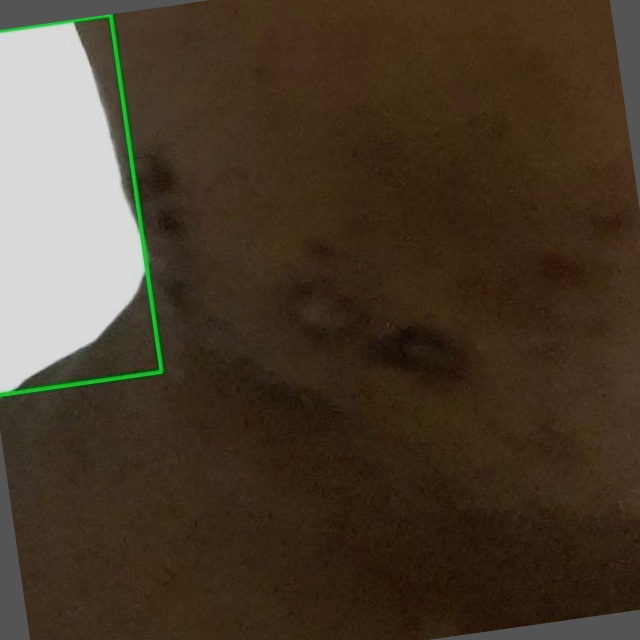Contact Dermatitis: (0, 14, 161, 394)
